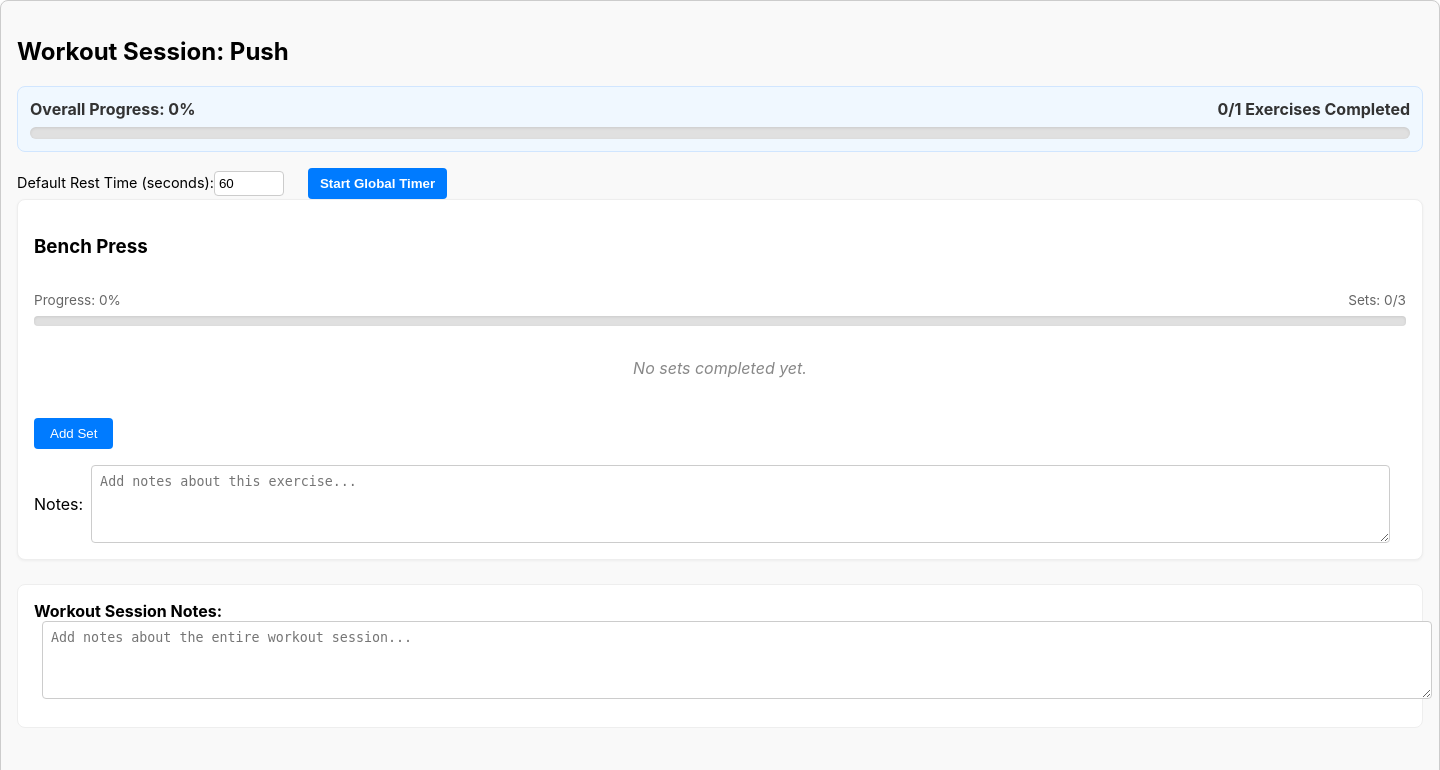
Test: WorkoutSession › adds a set when Add Set button is clicked
Click the button "Add Set" at (74, 434), box [34,418,113,449]
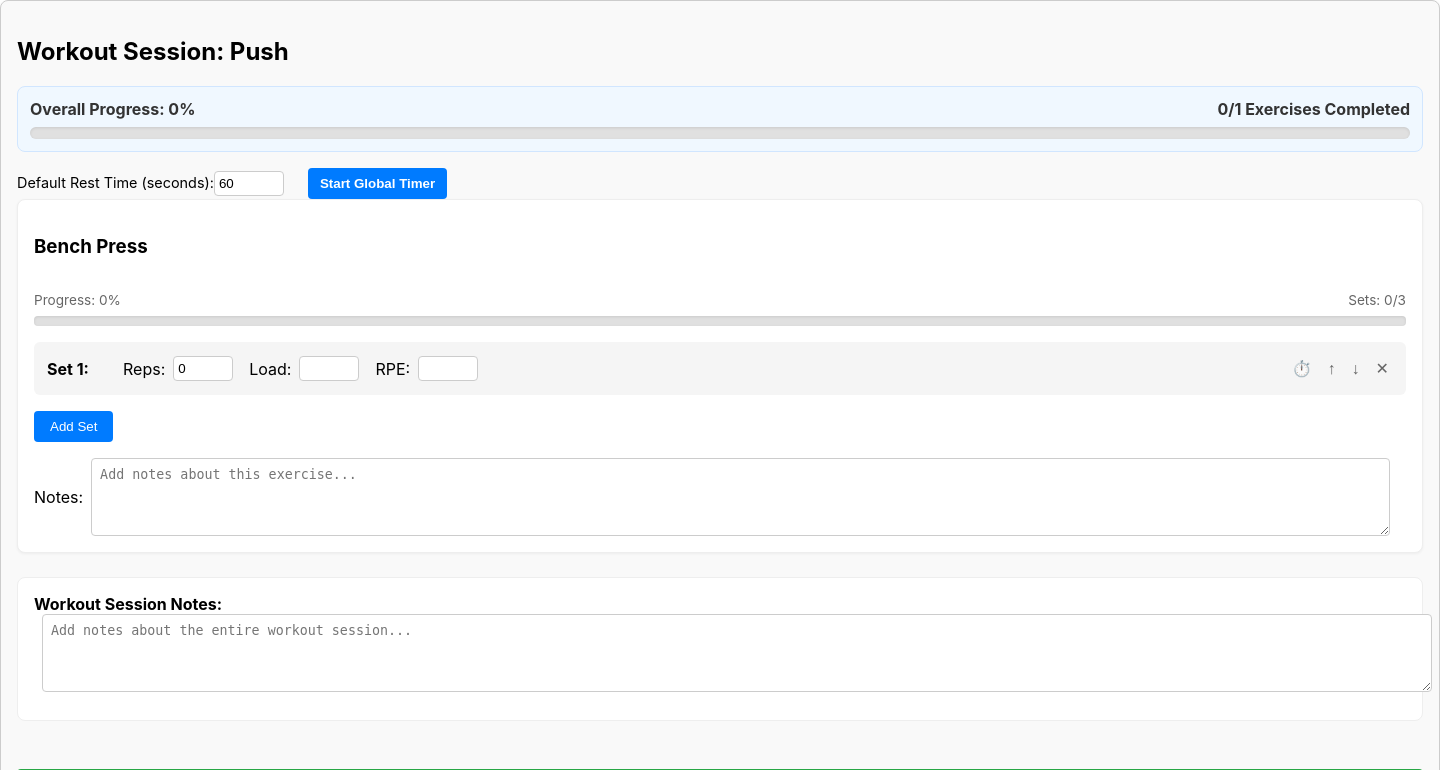
Expected: the text "Sets: 0/3" is shown, [1348,292,1406,308]
Expected: the text "Set 1:" is shown, [47,359,89,379]
